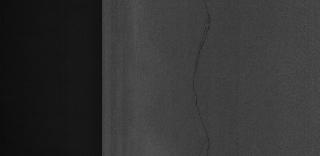water spot: (185, 4, 229, 148)
